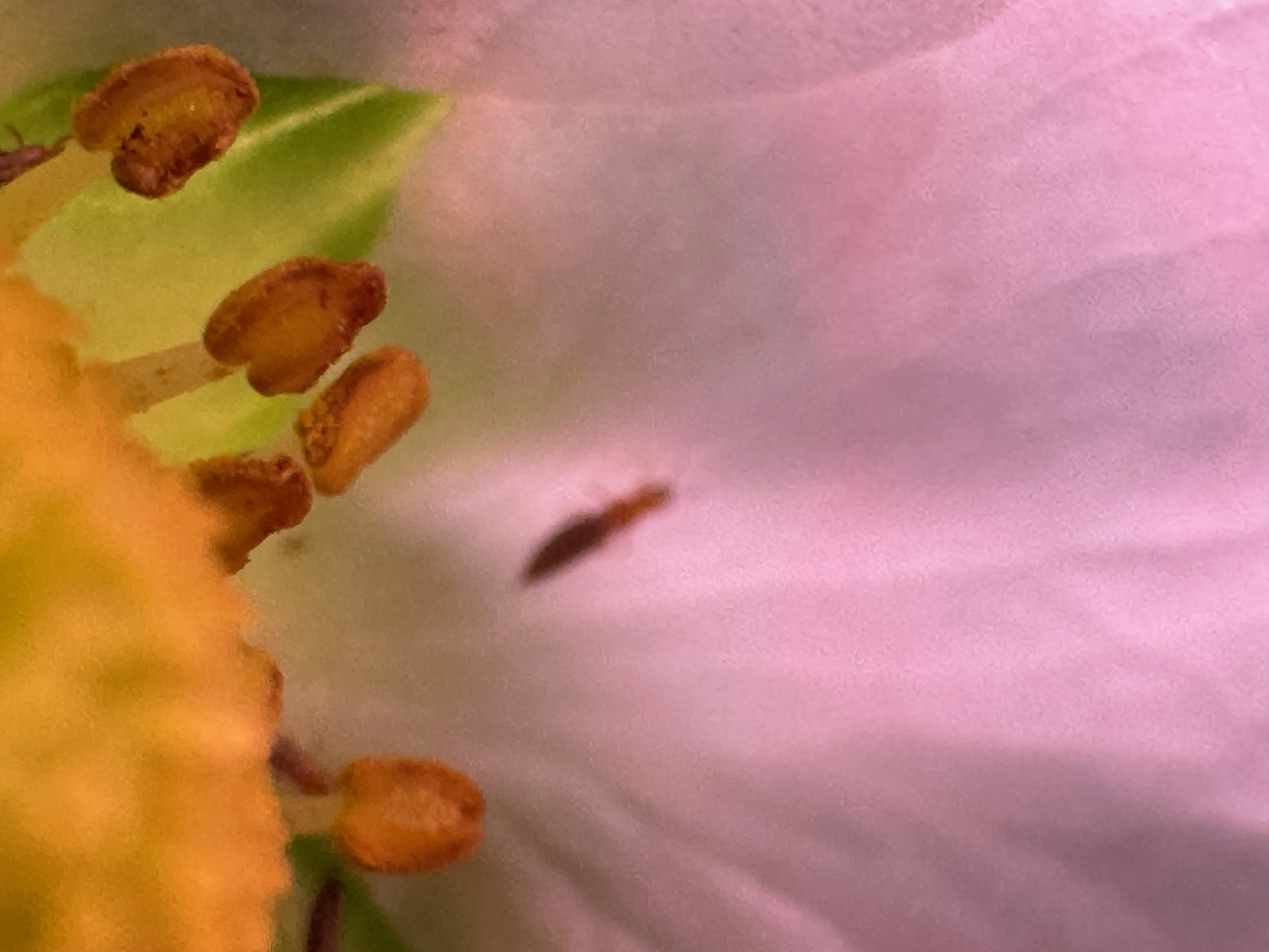tiny_pests: (478, 434, 702, 620)
